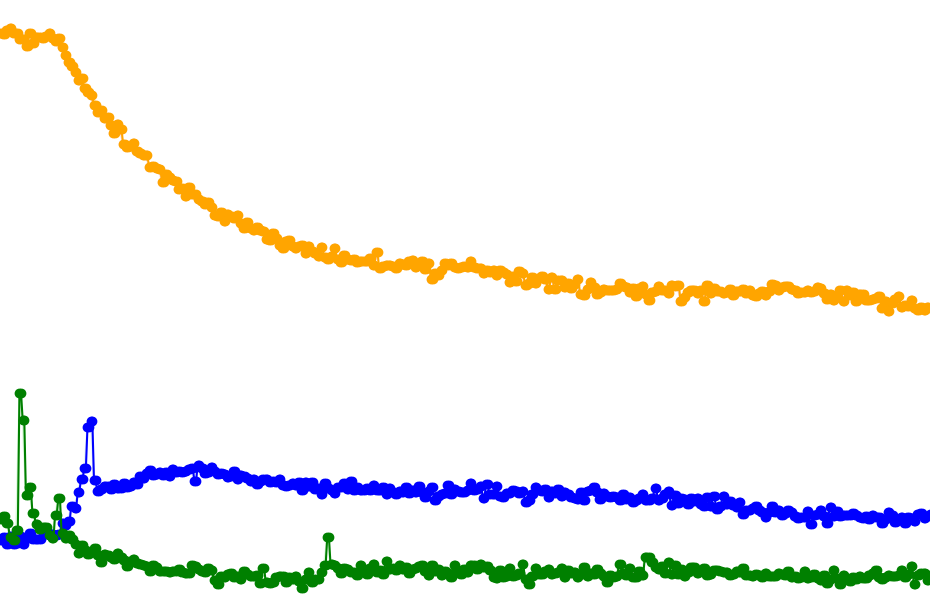CO2 Problem: (116, 0, 930, 616), (38, 0, 116, 616)
Condensation (CO2): (116, 0, 349, 616), (38, 0, 116, 616)
Low CO2: (272, 0, 930, 616), (116, 0, 349, 616), (38, 0, 116, 616)
Normal: (38, 0, 930, 616), (116, 0, 930, 616), (38, 0, 505, 616), (38, 0, 349, 616), (0, 0, 116, 616), (38, 0, 116, 616)
O2 Problem: (116, 0, 930, 616)
